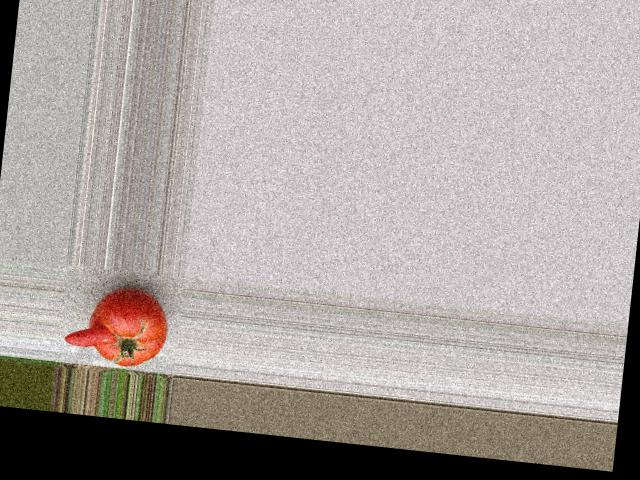tomato: (85, 286, 172, 370)
